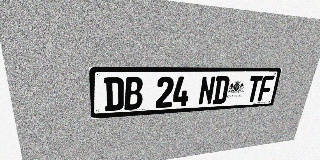2: (156, 77, 174, 108)
4: (172, 76, 191, 107)
B: (124, 77, 143, 110)
D: (104, 77, 124, 111), (212, 76, 230, 104)
F: (257, 75, 275, 101)
N: (198, 76, 216, 105)
T: (245, 76, 263, 102)
